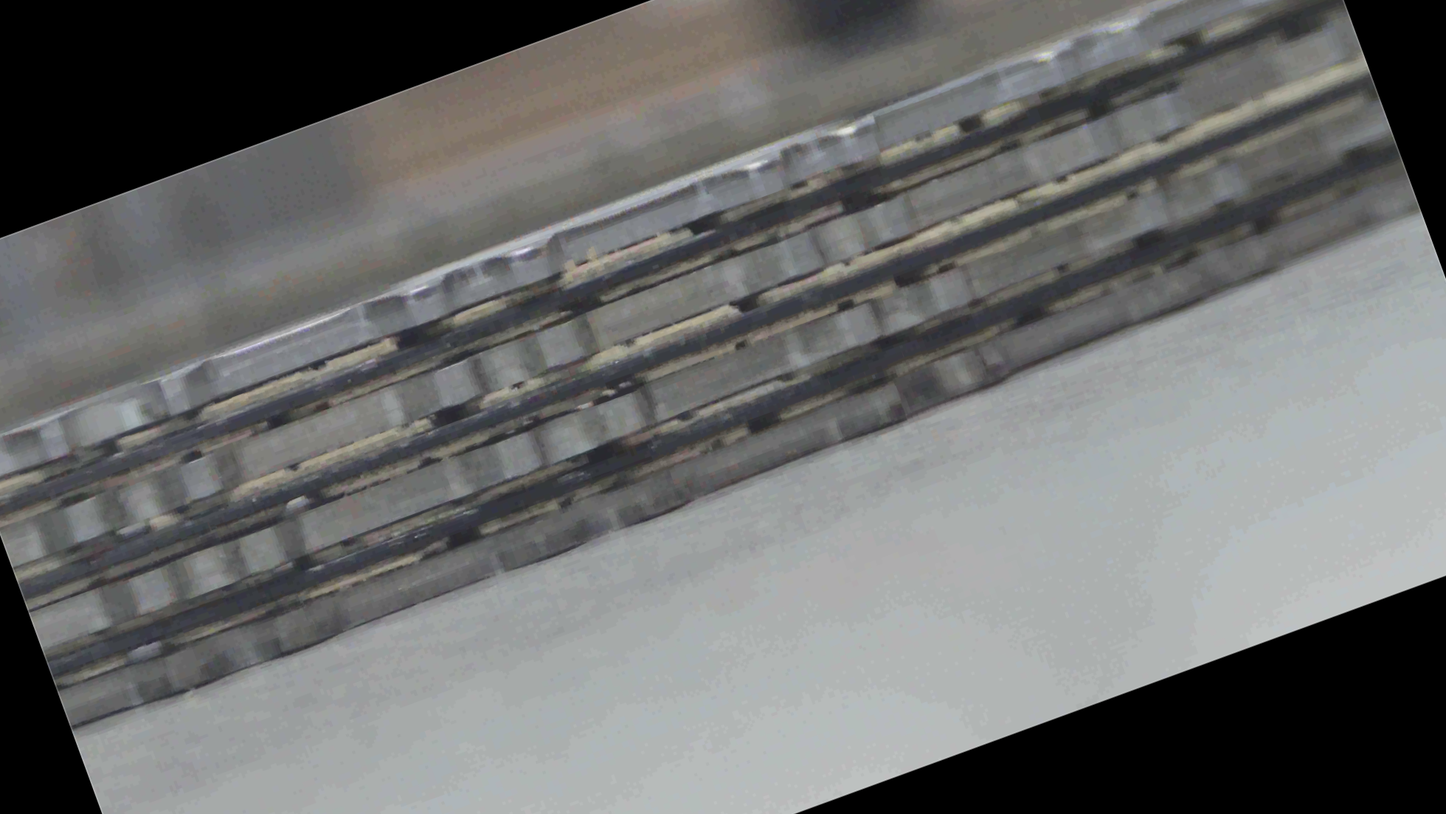Black metal plate: (58, 180, 1416, 727)
shiney metal plate: (35, 142, 1379, 729), (0, 23, 1383, 396), (18, 194, 1446, 384)
spacer: (0, 391, 1445, 435), (15, 226, 1445, 265), (0, 316, 1440, 354)
